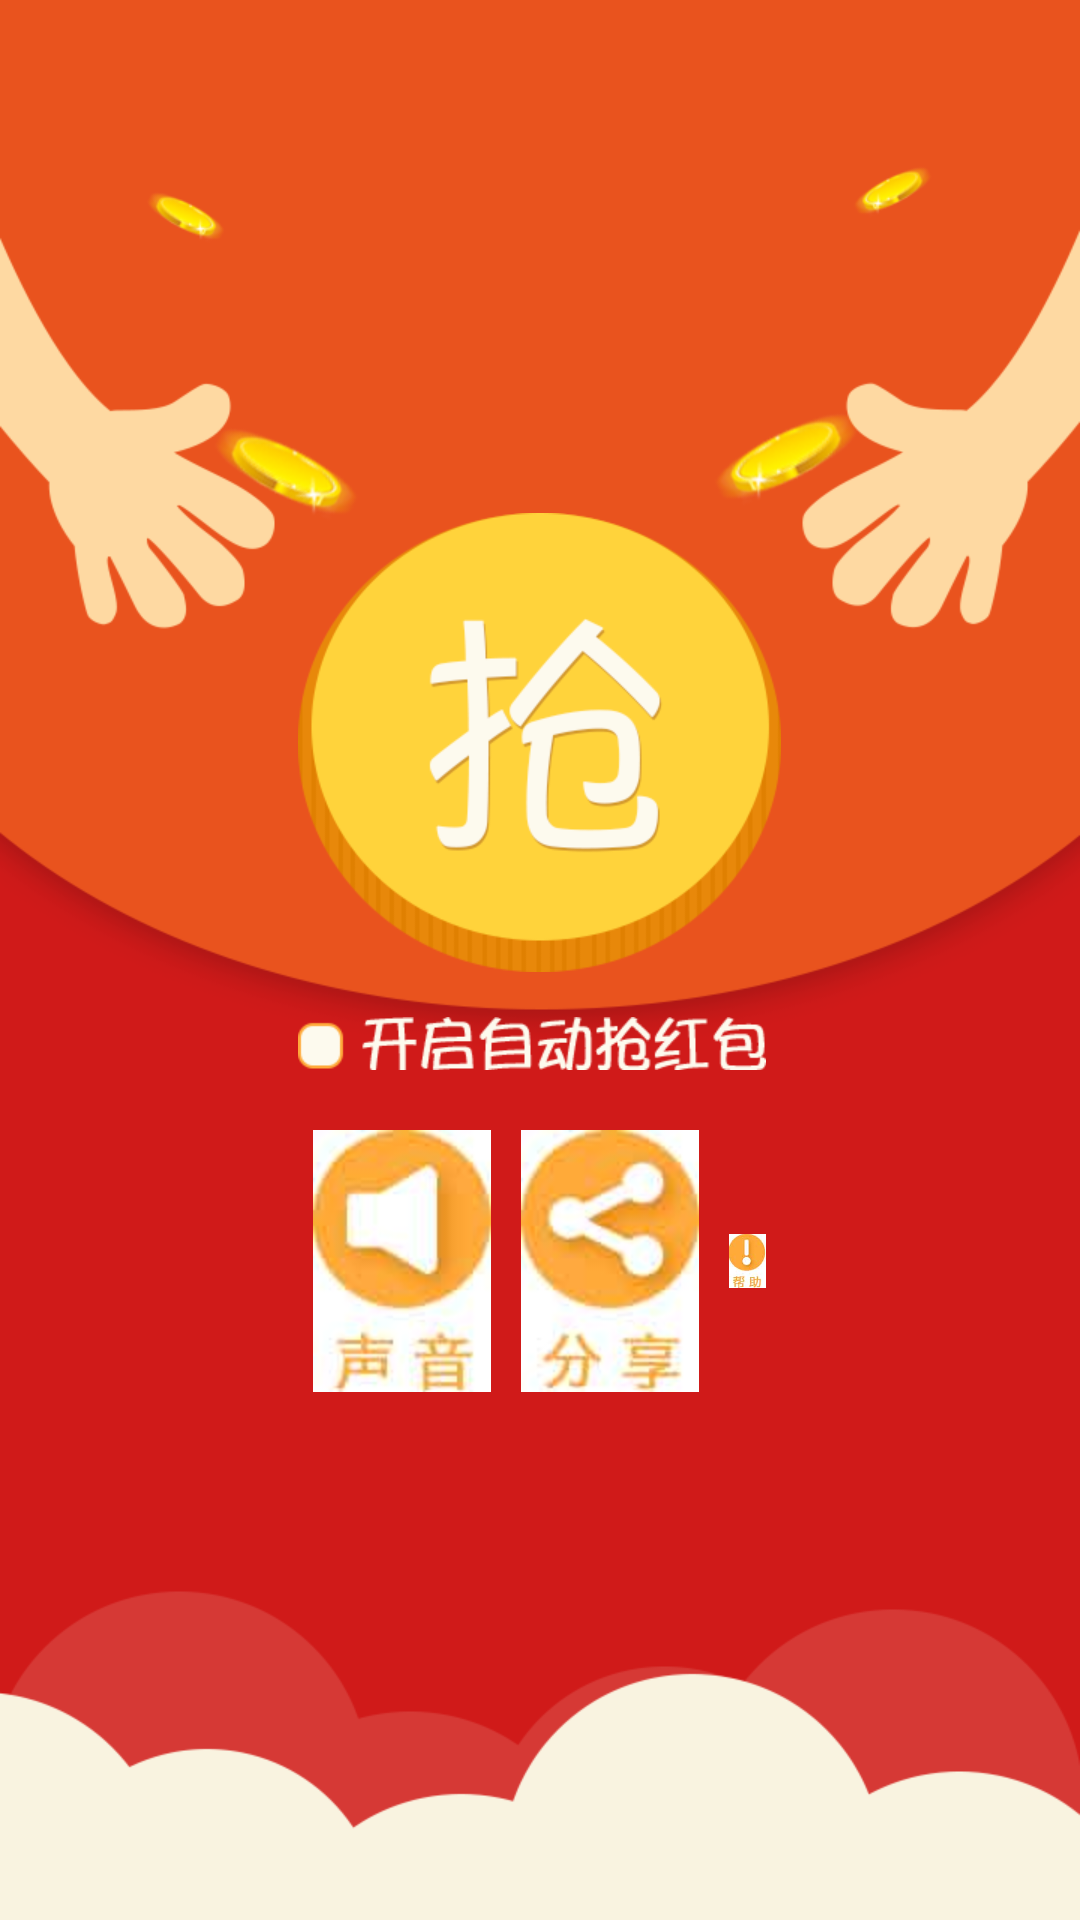

Named icons in this screenshot (1080w x 1920h) and their centers, [x,y]:
about: [747,1261]
